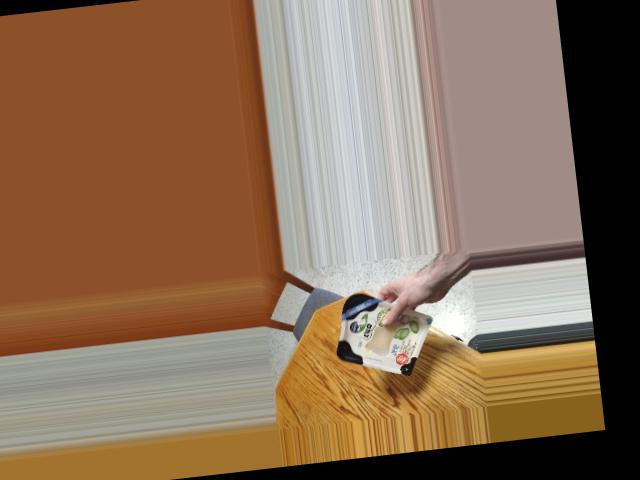cheese: (326, 290, 421, 380)
